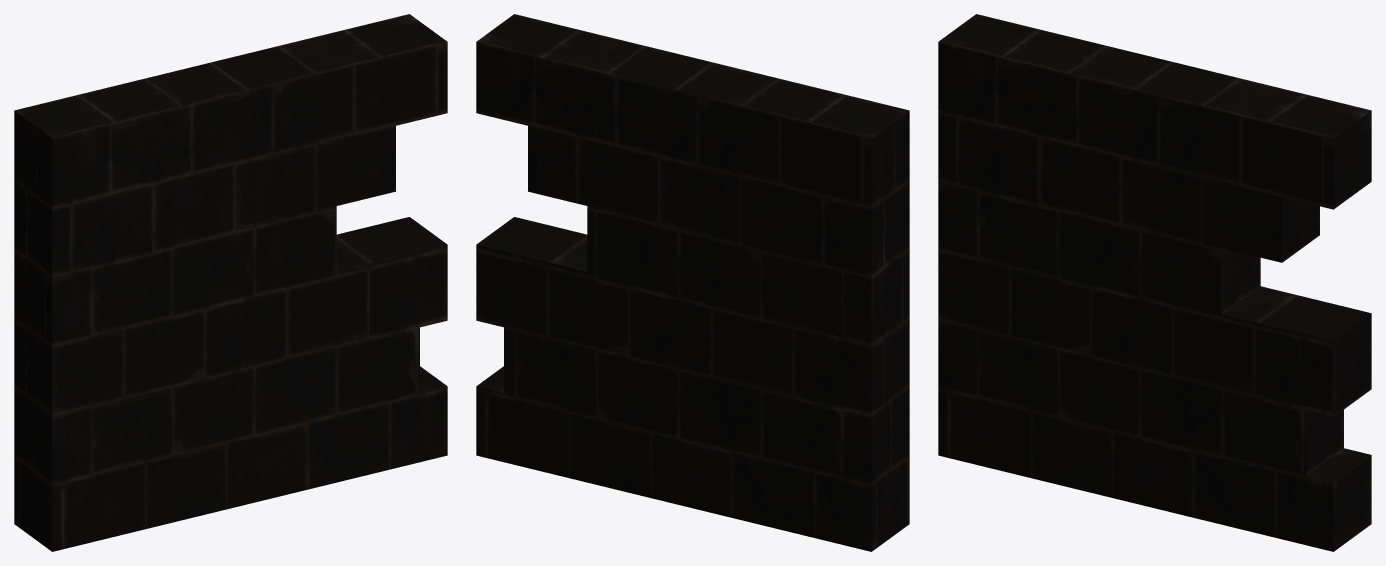
The model's file is wall_3A.fbx.
The picture shows the model from 3 angles, left to right: view 1: azimuth 30°, elevation 25°; view 2: azimuth 150°, elevation 25°; view 3: azimuth 330°, elevation 25°; orthographic projection.
Visible parts, largest first — view 1: wall_3A; view 2: wall_3A; view 3: wall_3A.
Part boxes in pixels (bbox=[...]): wall_3A: bbox=[14, 14, 447, 551]; wall_3A: bbox=[476, 14, 909, 551]; wall_3A: bbox=[938, 14, 1371, 551].
Size of the model in its own units: 600 by 600 by 100.
